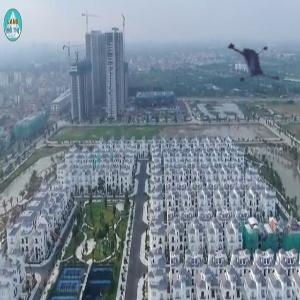drone: (211, 28, 279, 96)
